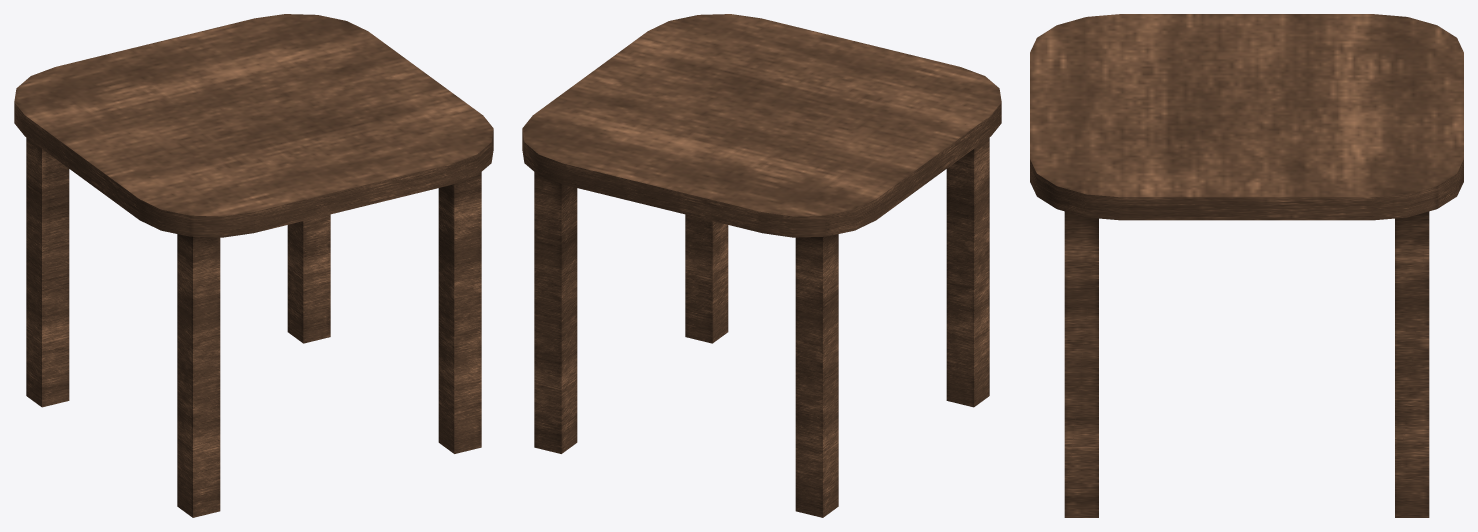
Rendered from SM_Chair_001.fbx.
3 views of the same model, side by side, from view 1: azimuth 30°, elevation 25°; view 2: azimuth 150°, elevation 25°; view 3: azimuth 270°, elevation 25° (orthographic). The views are drawn at different scales.
Parts seen in each view (by area): view 1: Cube(main); view 2: Cube(main); view 3: Cube(main).
Boxes of the visible parts, left/top/right/bottom form: Cube(main): left=14, top=14, right=493, bottom=517; Cube(main): left=522, top=14, right=1001, bottom=517; Cube(main): left=1030, top=14, right=1463, bottom=517.
Size of the model in its own units: 69.95 by 59.62 by 69.95.
Materials: 1 (1 with a texture image).
